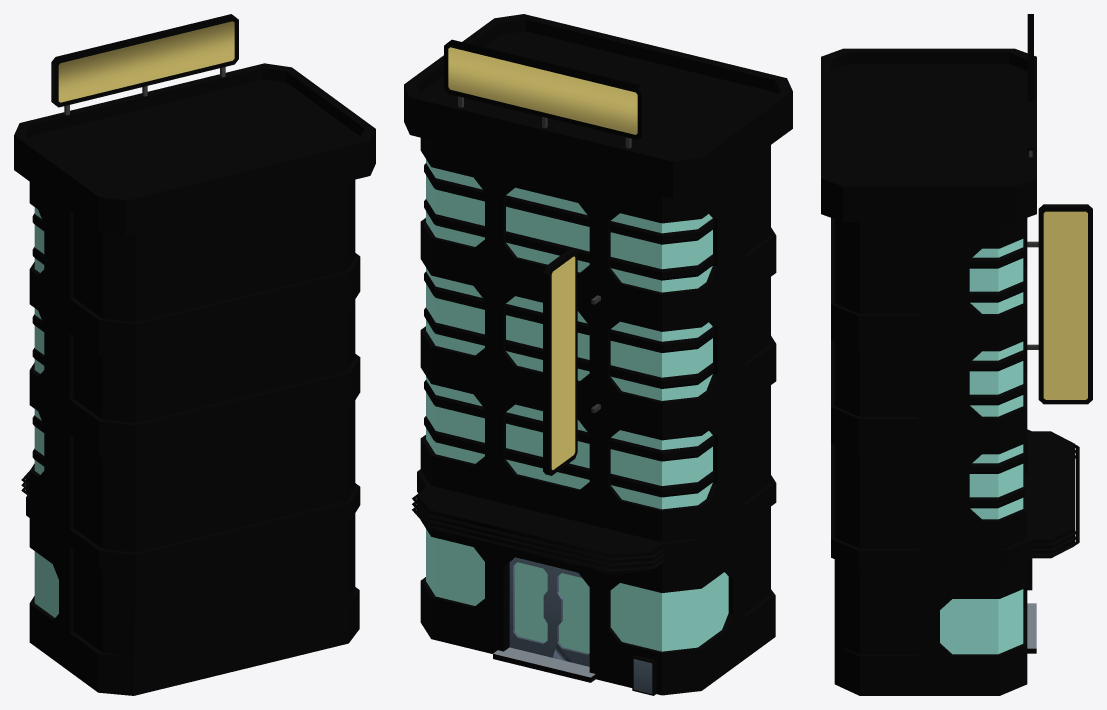
Rendered from Comercio_Edificio_06.FBX.
3 views of the same model, side by side, from view 1: azimuth 30°, elevation 25°; view 2: azimuth 150°, elevation 25°; view 3: azimuth 270°, elevation 25° (orthographic). The views are drawn at different scales.
Parts seen in each view (by area): view 1: Comercio_Edificio_06; view 2: Comercio_Edificio_06; view 3: Comercio_Edificio_06.
Part boxes in pixels (x1,y1,x2,y2): Comercio_Edificio_06: [14, 14, 375, 695]; Comercio_Edificio_06: [404, 14, 792, 695]; Comercio_Edificio_06: [821, 14, 1092, 695].
Bounding box in the file's own units: 1000 × 832 × 1935.
